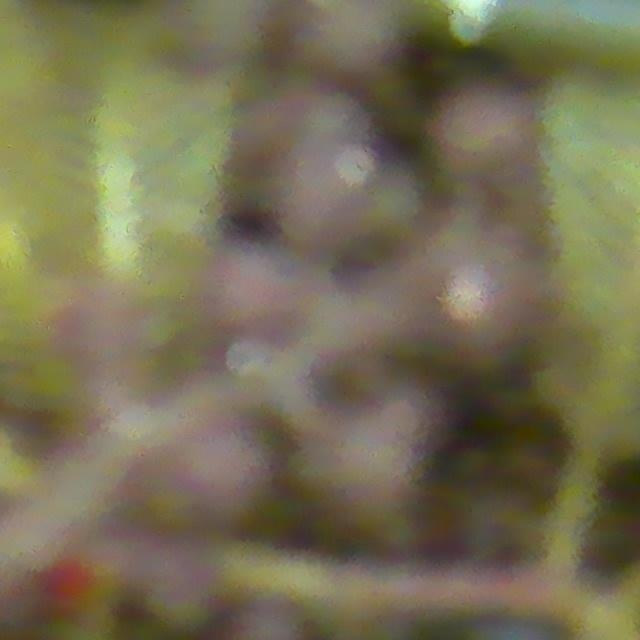SeaGrape: (319, 397, 441, 515), (419, 227, 515, 359), (201, 246, 310, 351), (428, 84, 535, 189), (179, 415, 272, 522), (287, 0, 395, 83)
